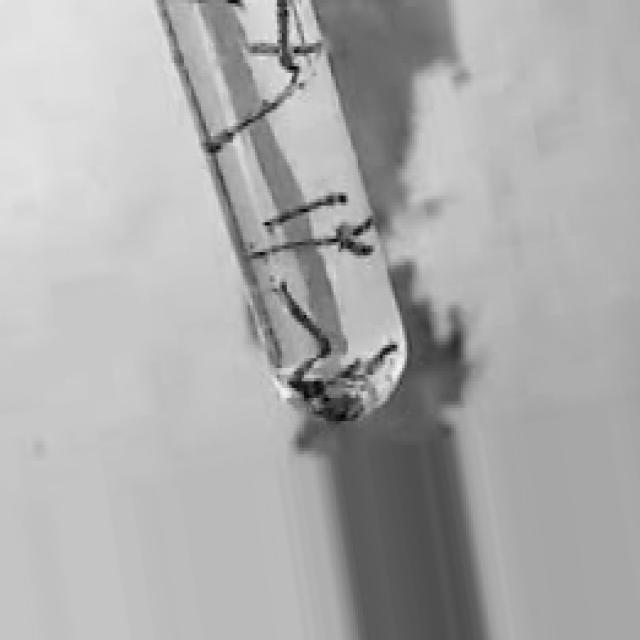larvas: (209, 82, 294, 155), (262, 186, 350, 235), (280, 287, 330, 353), (251, 238, 337, 256), (248, 38, 317, 58), (272, 0, 290, 70), (292, 356, 323, 396), (338, 218, 372, 253), (368, 345, 396, 374)
